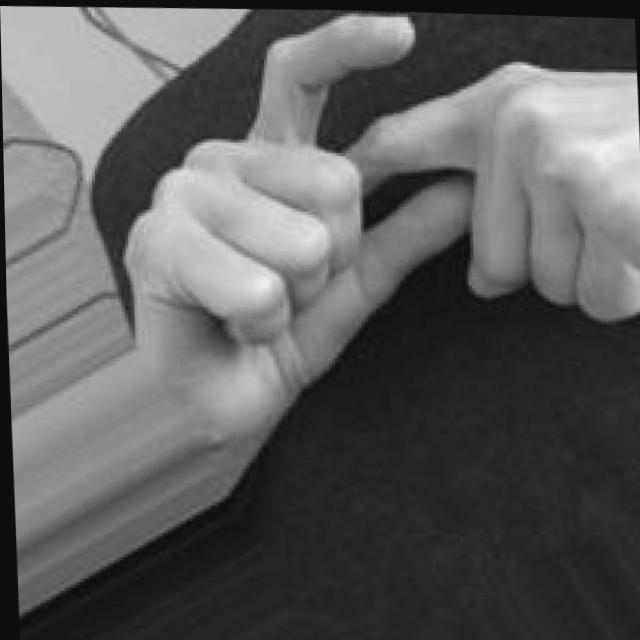G: (112, 3, 640, 457)
